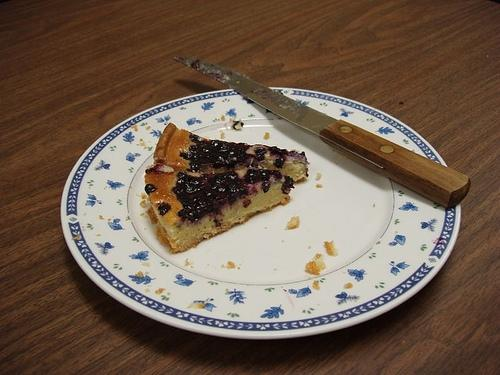blueberry: (280, 175, 296, 194), (244, 173, 262, 184), (236, 185, 249, 199), (274, 154, 286, 168), (217, 142, 229, 154), (145, 184, 158, 195), (176, 194, 190, 204), (224, 171, 239, 180), (214, 156, 225, 168), (210, 140, 222, 151), (158, 204, 169, 215), (232, 120, 244, 130), (182, 202, 194, 212), (172, 187, 184, 196), (202, 189, 214, 198), (254, 152, 264, 162), (273, 171, 283, 181), (228, 146, 238, 156), (190, 154, 200, 164), (187, 212, 196, 223), (180, 152, 192, 160), (236, 156, 248, 164), (262, 180, 270, 192), (190, 196, 200, 205), (217, 152, 228, 160), (261, 172, 270, 181), (217, 188, 227, 196), (270, 146, 280, 154), (176, 171, 185, 179), (203, 146, 212, 154), (205, 154, 213, 162), (184, 175, 192, 183), (234, 180, 242, 188), (288, 150, 298, 155), (208, 199, 216, 204), (194, 164, 200, 170), (196, 140, 202, 146), (194, 177, 201, 182), (216, 174, 224, 178), (200, 204, 205, 210), (204, 174, 210, 178)
